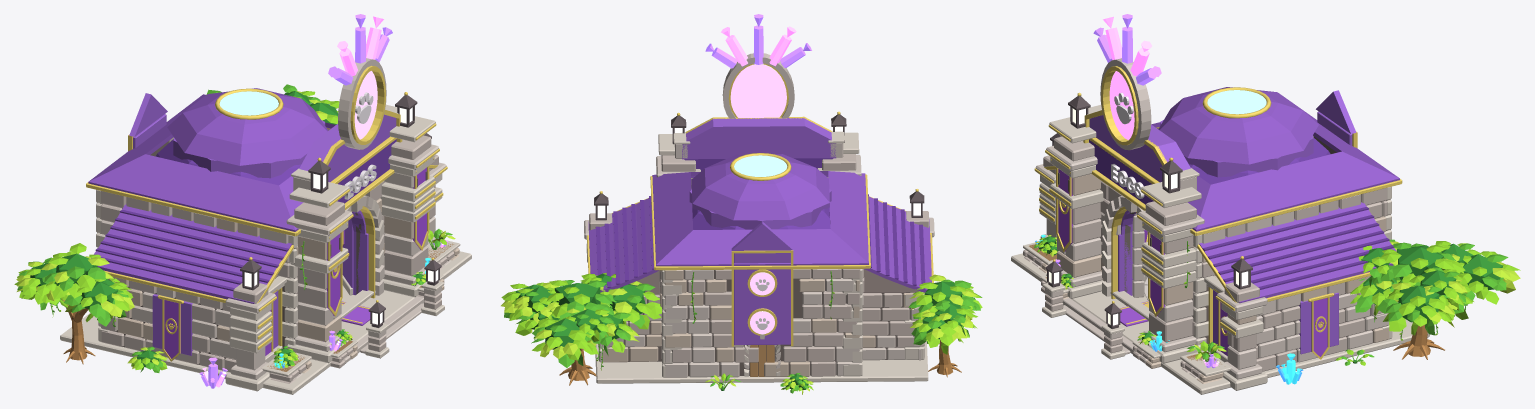
The model's file is Floor1_Hatchery.fbx.
The picture shows the model from 3 angles, left to right: view 1: azimuth 30°, elevation 25°; view 2: azimuth 150°, elevation 25°; view 3: azimuth 270°, elevation 25°; orthographic projection. The views are drawn at different scales.
Parts seen in each view (by area): view 1: Hatchery_Roof__Hatch_Roof, Hatchery_Pillars__Castle_Trim, Hatchery_Roof__Hatch_Roof_Dark, Hatchery_Floor__Castle_Trim, Hatchery_Pillars__Castle_Stone, Hatchery_Wings__Castle_Stone, Hatchery_Pillars__Castle_Stone_Light, Hatchery_Wings__Castle_Stone_Light, Hatchery_Wings__Castle_Trim, Hatchery_Roof__Gold, Hatchery_Land_Tree_Medium_High_14__Leaves_Light, Hatchery_Facade__Castle_Trim (+40 smaller); view 2: Hatchery_Roof__Hatch_Roof, Hatchery_Sides_Back__Castle_Stone, Hatchery_Parapet__Hatch_Purple, Hatchery_Sides_Back__Castle_Stone_Light, Hatchery_Sides_Back__Hatch_Purple, Hatchery_Roof__Hatch_Roof_Dark, Hatchery_Floor__Castle_Trim, Hatchery_Land_Tree_Large_High_15__Leaves_Light, Hatchery_Sides_Back__Castle_Stone_Warm, Hatchery_Wings__Castle_Stone, Hatchery_Land_Tree_Large_High_15__Leaves_Dark, Hatchery_Egg_Emblem__Hatch_Egg_Glow (+27 smaller); view 3: Hatchery_Roof__Hatch_Roof, Hatchery_Pillars__Castle_Trim, Hatchery_Land_Tree_Large_High_15__Leaves_Light, Hatchery_Wings__Castle_Stone_Light, Hatchery_Roof__Hatch_Roof_Dark, Hatchery_Pillars__Castle_Stone, Hatchery_Floor__Castle_Trim, Hatchery_Pillars__Castle_Stone_Light, Hatchery_Land_Tree_Large_High_15__Leaves_Dark, Hatchery_Wings__Castle_Stone, Hatchery_Land_Tree_Large_High_15__Leaves_Mid, Hatchery_Roof__Gold (+36 smaller).
Boxes of the visible parts, box(x1,y1,x2,y2) form: Hatchery_Roof__Hatch_Roof: box(88, 88, 335, 303); Hatchery_Pillars__Castle_Trim: box(286, 116, 435, 363); Hatchery_Roof__Hatch_Roof_Dark: box(95, 209, 288, 290); Hatchery_Floor__Castle_Trim: box(60, 251, 471, 394); Hatchery_Pillars__Castle_Stone: box(294, 135, 431, 308); Hatchery_Wings__Castle_Stone: box(101, 154, 438, 372); Hatchery_Pillars__Castle_Stone_Light: box(286, 144, 438, 351); Hatchery_Wings__Castle_Stone_Light: box(131, 162, 446, 379); Hatchery_Wings__Castle_Trim: box(98, 173, 444, 391); Hatchery_Roof__Gold: box(86, 88, 438, 303); Hatchery_Land_Tree_Medium_High_14__Leaves_Light: box(14, 243, 133, 321); Hatchery_Facade__Castle_Trim: box(282, 200, 384, 348); Hatchery_Roof__Hatch_Roof: box(588, 154, 931, 292); Hatchery_Sides_Back__Castle_Stone: box(659, 269, 864, 376); Hatchery_Parapet__Hatch_Purple: box(682, 118, 836, 159); Hatchery_Sides_Back__Castle_Stone_Light: box(664, 270, 863, 377); Hatchery_Sides_Back__Hatch_Purple: box(731, 221, 793, 344); Hatchery_Roof__Hatch_Roof_Dark: box(595, 194, 925, 290); Hatchery_Floor__Castle_Trim: box(595, 341, 928, 383); Hatchery_Land_Tree_Large_High_15__Leaves_Light: box(501, 272, 661, 370); Hatchery_Sides_Back__Castle_Stone_Warm: box(660, 270, 860, 376); Hatchery_Wings__Castle_Stone: box(589, 211, 929, 357); Hatchery_Land_Tree_Large_High_15__Leaves_Dark: box(515, 273, 645, 349); Hatchery_Egg_Emblem__Hatch_Egg_Glow: box(730, 64, 786, 117); Hatchery_Roof__Hatch_Roof: box(1151, 87, 1399, 303); Hatchery_Pillars__Castle_Trim: box(1046, 117, 1202, 363); Hatchery_Land_Tree_Large_High_15__Leaves_Light: box(1350, 241, 1520, 340); Hatchery_Wings__Castle_Stone_Light: box(1035, 164, 1388, 379); Hatchery_Roof__Hatch_Roof_Dark: box(1202, 206, 1393, 289); Hatchery_Pillars__Castle_Stone: box(1054, 136, 1196, 342); Hatchery_Floor__Castle_Trim: box(1011, 253, 1429, 394); Hatchery_Pillars__Castle_Stone_Light: box(1046, 145, 1204, 352); Hatchery_Land_Tree_Large_High_15__Leaves_Dark: box(1361, 243, 1502, 322); Hatchery_Wings__Castle_Stone: box(1043, 155, 1382, 371); Hatchery_Land_Tree_Large_High_15__Leaves_Mid: box(1355, 239, 1508, 336); Hatchery_Roof__Gold: box(1044, 87, 1402, 302).
Bounding box in the file's own units: 7960 × 5340 × 7988.
